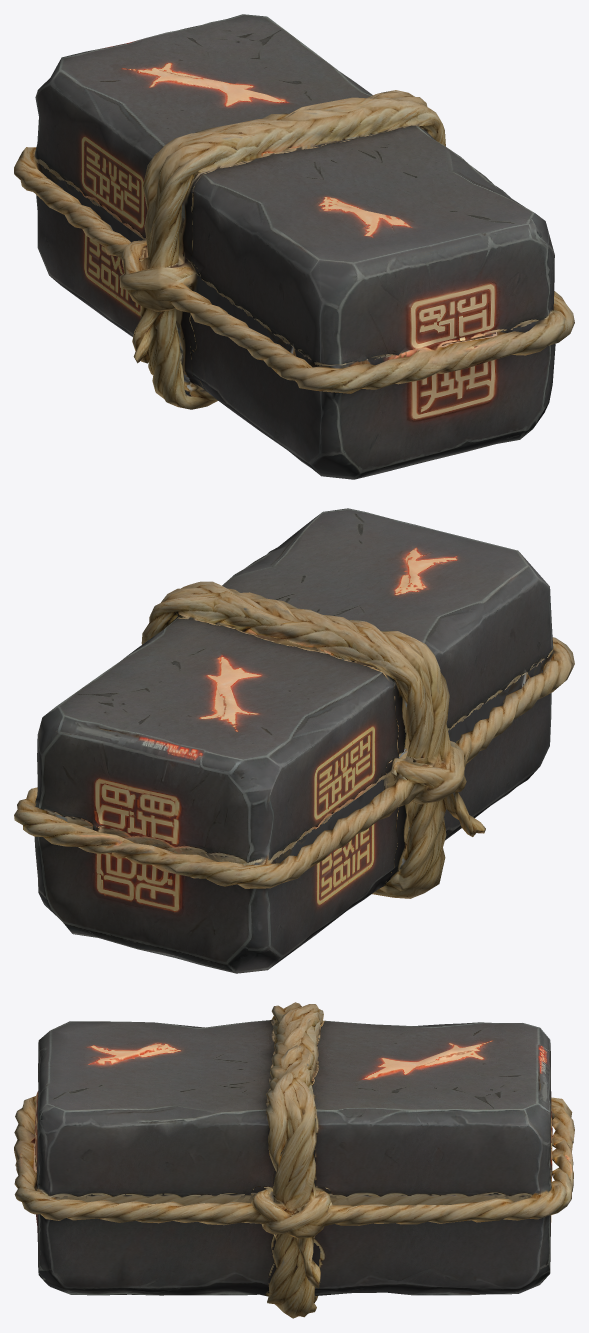
Rendered from SealStone.fbx.
3 renders of one model, top to bottom at view 1: azimuth 30°, elevation 25°; view 2: azimuth 150°, elevation 25°; view 3: azimuth 270°, elevation 25°, orthographic. The views are drawn at different scales.
Visible parts, largest first — view 1: texture_mapping; view 2: texture_mapping; view 3: texture_mapping.
Boxes of the visible parts, x1,y1,x2,y2 form: texture_mapping: (14,14,574,479); texture_mapping: (14,508,574,973); texture_mapping: (14,1002,574,1318).
Size of the model in its own units: 0.6244 by 0.9992 by 0.4465.
Materials: 1 (1 with a texture image).
